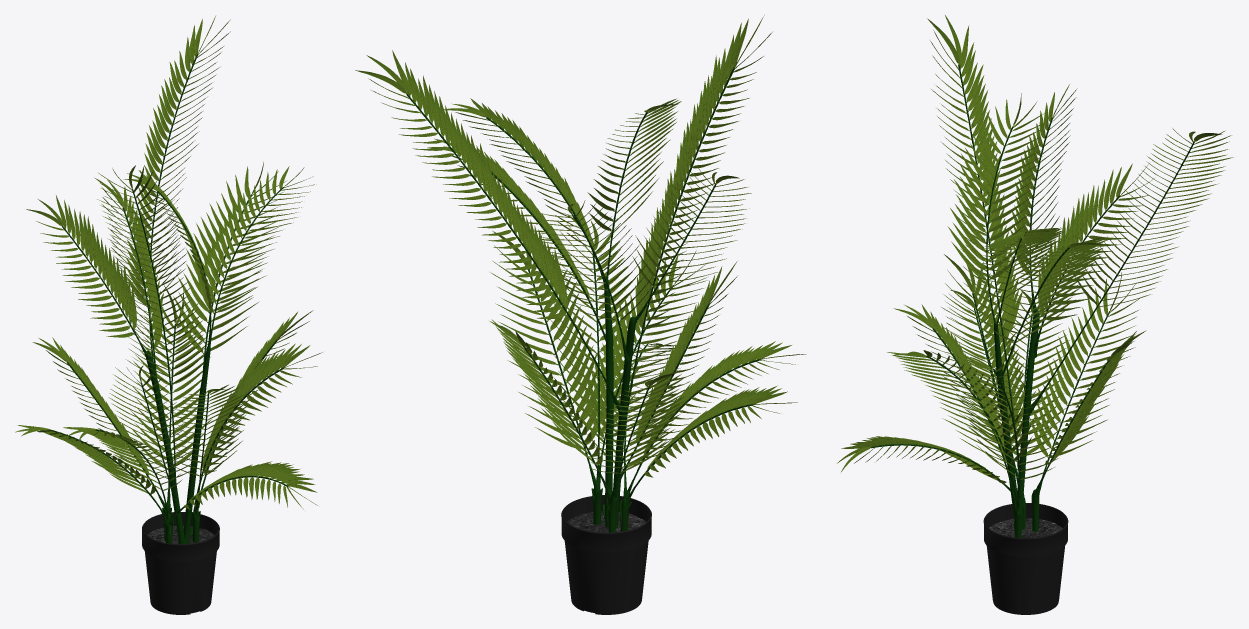
File: fejka_sztuczna_roslina_doniczkowa_00600894.glb
3 views of the same model, side by side, from view 1: azimuth 30°, elevation 25°; view 2: azimuth 150°, elevation 25°; view 3: azimuth 270°, elevation 25° (orthographic). The views are drawn at different scales.
Visible parts, largest first — view 1: fejka_sztuczna_roslina_doniczkowa_00600894; view 2: fejka_sztuczna_roslina_doniczkowa_00600894; view 3: fejka_sztuczna_roslina_doniczkowa_00600894.
Part boxes in pixels (x1,y1,x2,y2): fejka_sztuczna_roslina_doniczkowa_00600894: [15, 16, 322, 614]; fejka_sztuczna_roslina_doniczkowa_00600894: [355, 15, 806, 614]; fejka_sztuczna_roslina_doniczkowa_00600894: [837, 15, 1232, 614].
Size of the model in its own units: 0.8133 by 1.29 by 0.8674.
4 materials, 2 textured.
